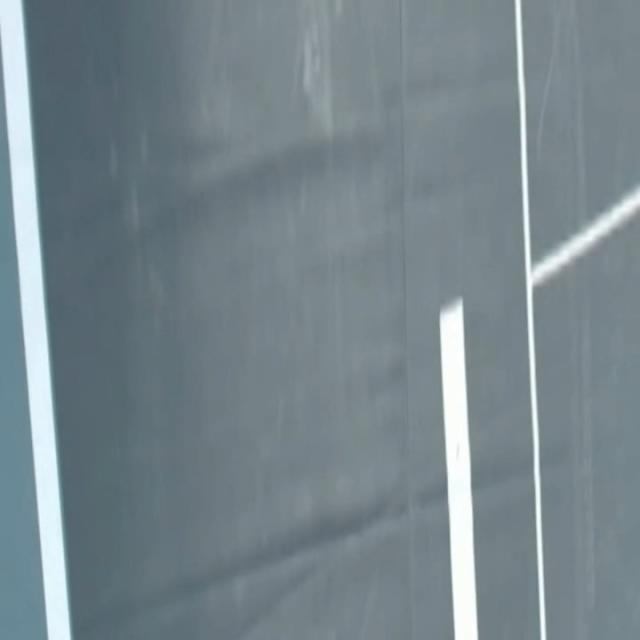center: (439, 300, 477, 639)
